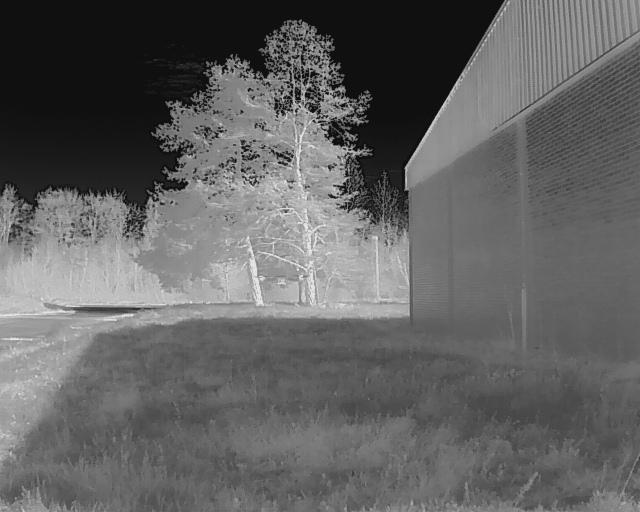drone: (249, 256, 316, 295)
